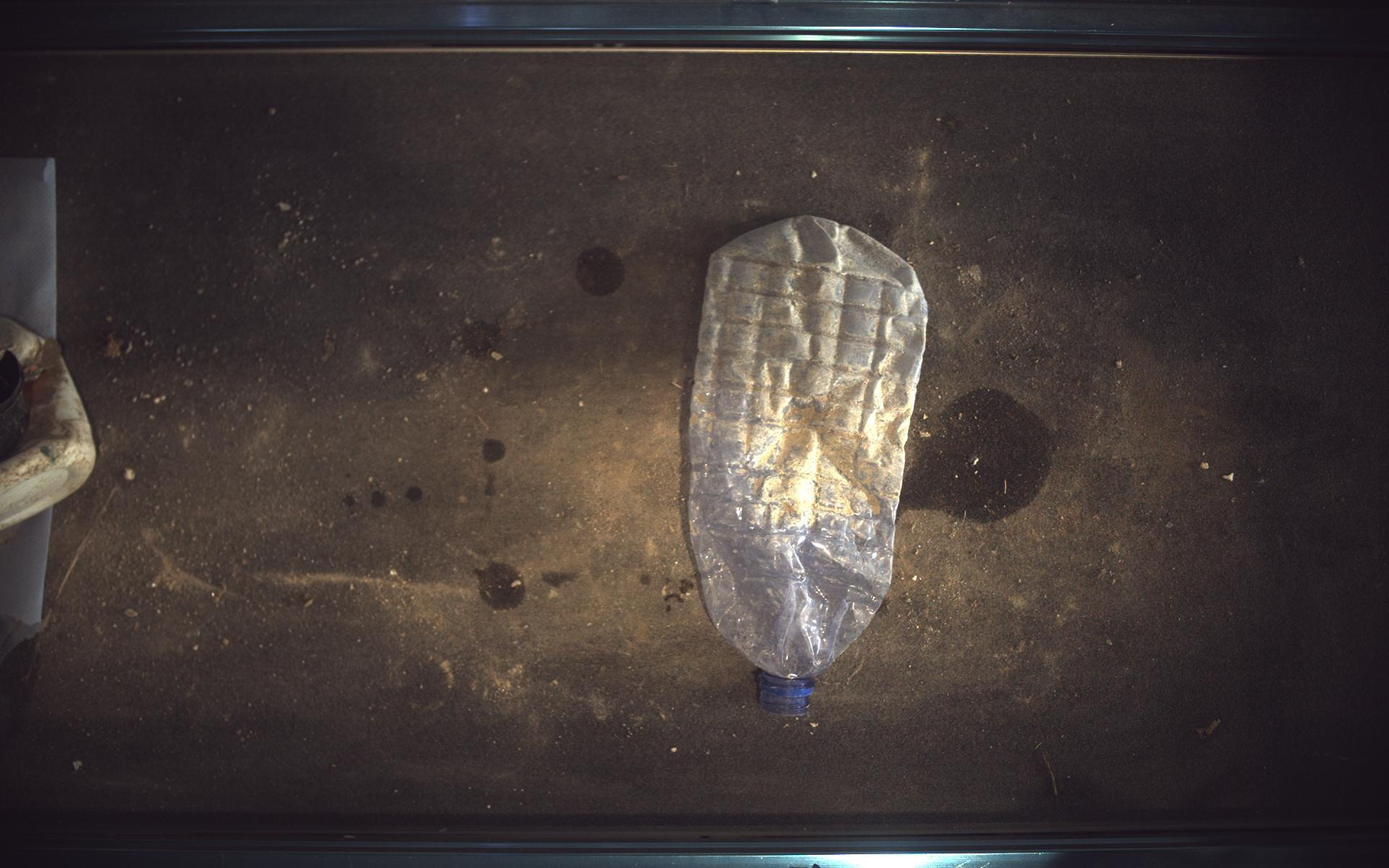general_w: (689, 215, 929, 717), (1, 350, 27, 461)
plastic: (1, 316, 95, 532)
